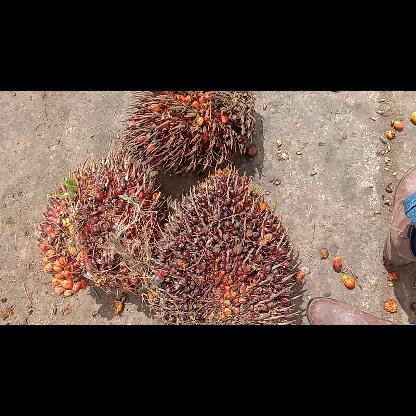Kurang masak: (146, 166, 296, 324)
TBS masak: (39, 158, 157, 298)
Terlalu masak: (124, 92, 254, 172)
